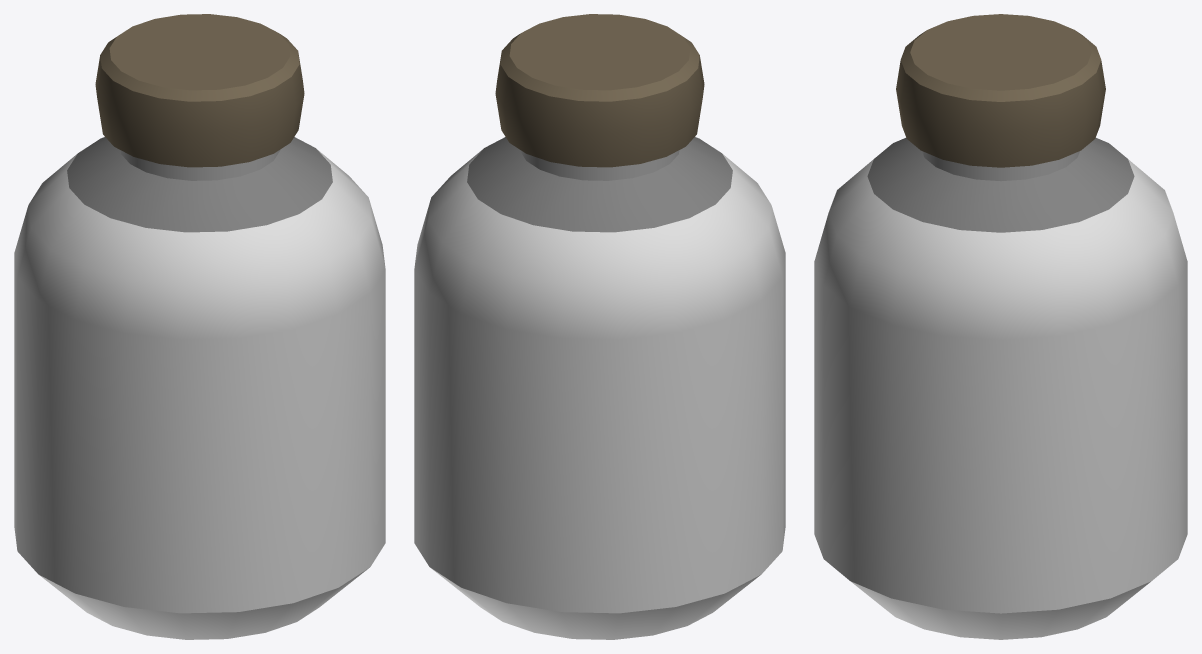
Rendered from SM_Bottle01.fbx.
3 renders of one model, left to right at view 1: azimuth 30°, elevation 25°; view 2: azimuth 150°, elevation 25°; view 3: azimuth 270°, elevation 25°, orthographic.
Visible parts, largest first — view 1: pCylinder14; view 2: pCylinder14; view 3: pCylinder14.
Part boxes in pixels (bbox=[...]): pCylinder14: bbox=[14, 14, 385, 639]; pCylinder14: bbox=[414, 14, 785, 639]; pCylinder14: bbox=[814, 14, 1187, 639].
Bounding box in the file's own units: 32.61 × 51.35 × 32.61.
